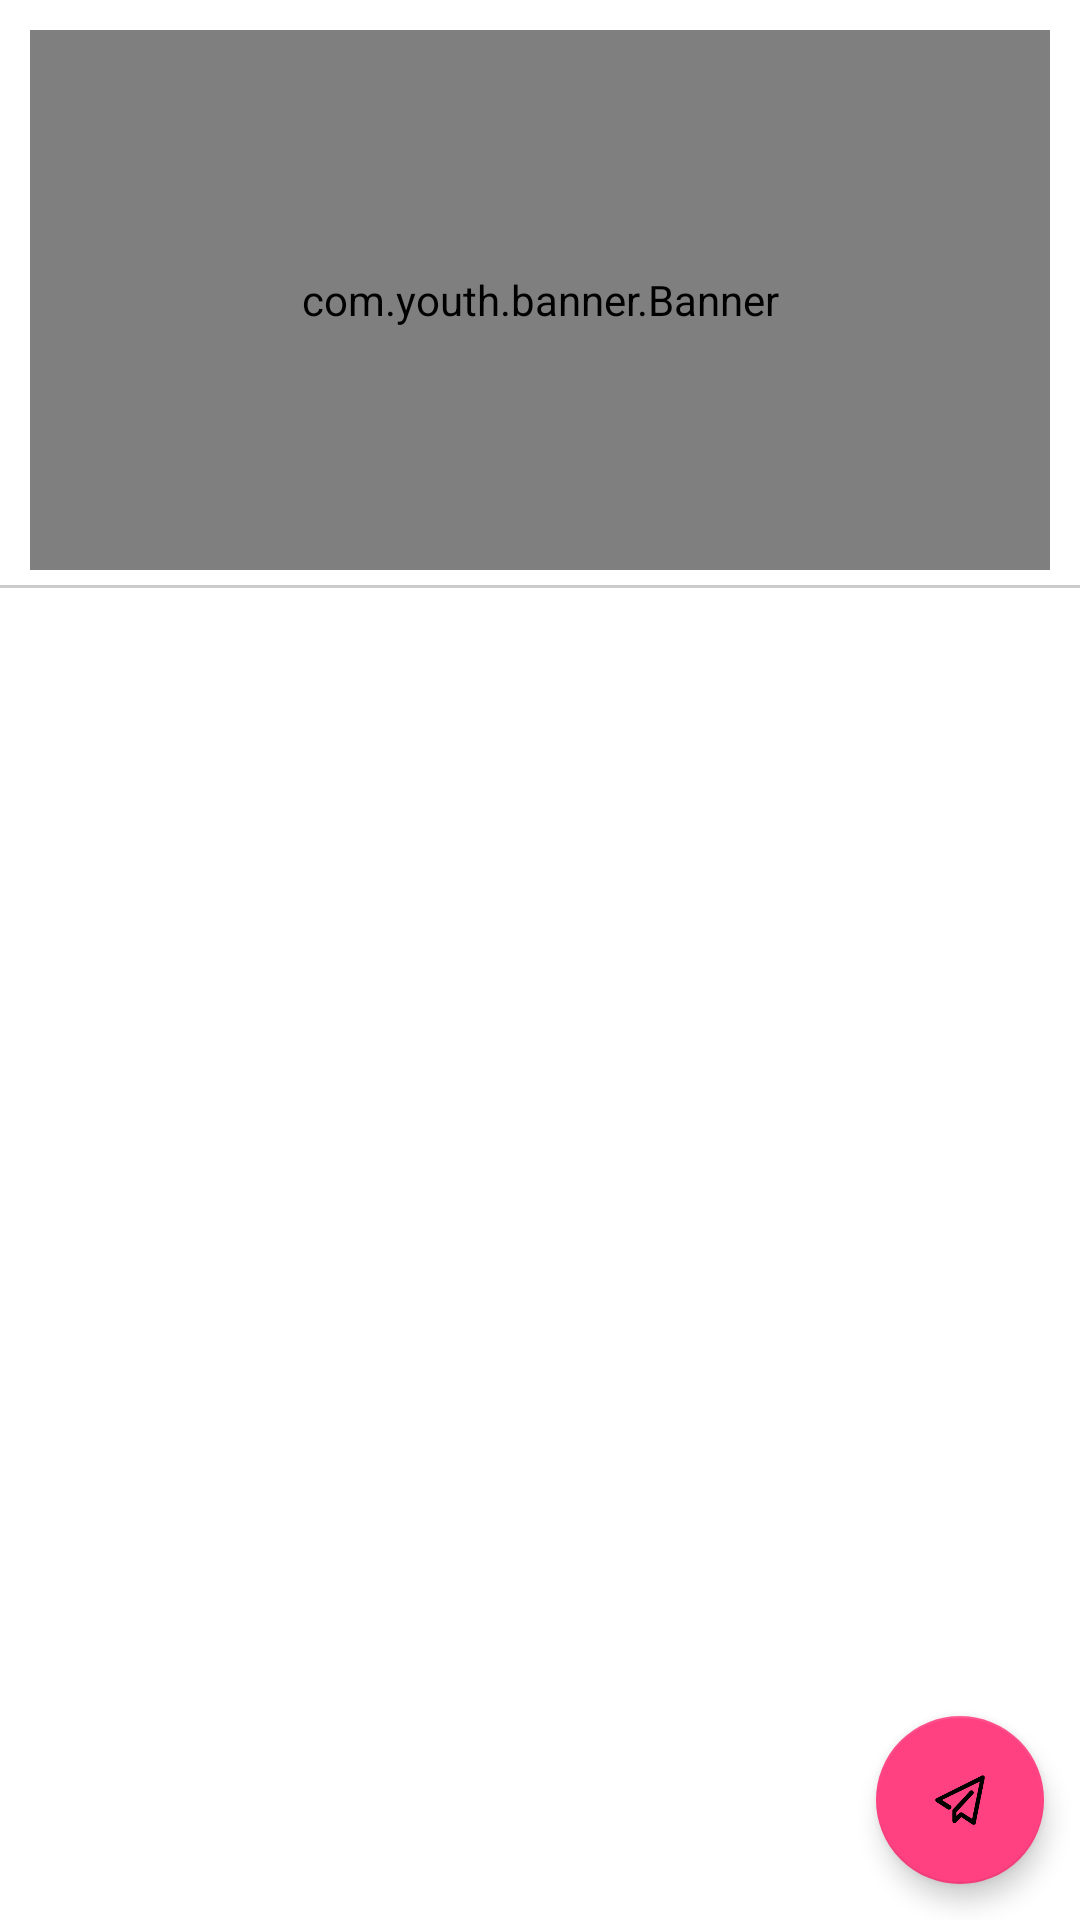

Icon click points for this 1080*1920 phone screenshot, format (x,y):
plane: (960,1800)
